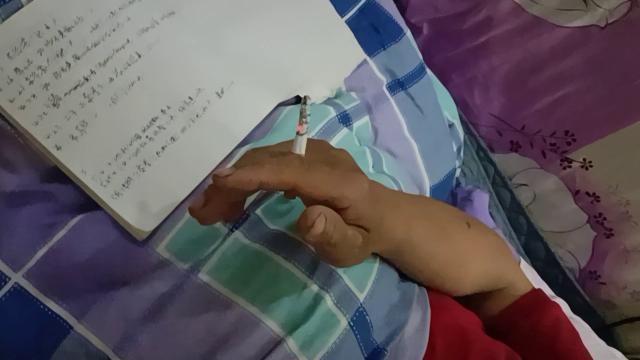Smoking: (284, 95, 312, 199)
